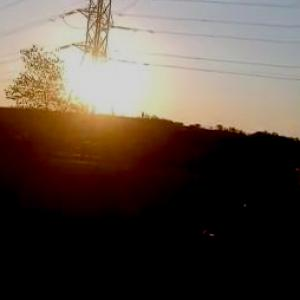follow: (194, 158, 287, 299)
